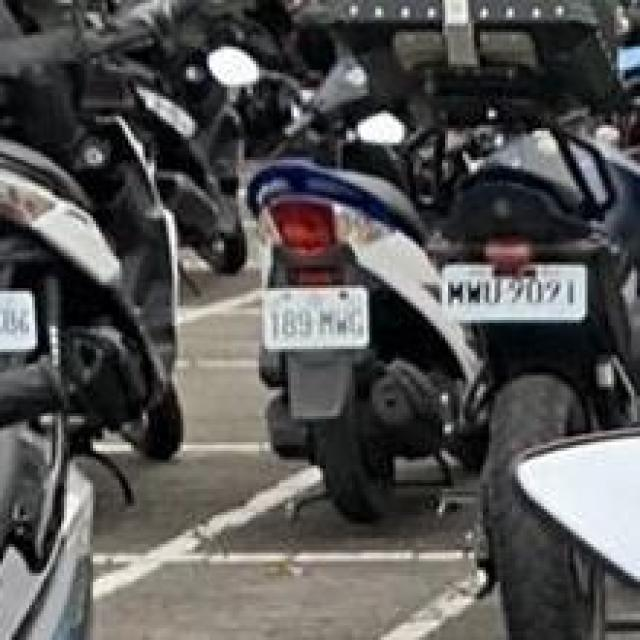W: (441, 261, 588, 324), (255, 284, 375, 355)
